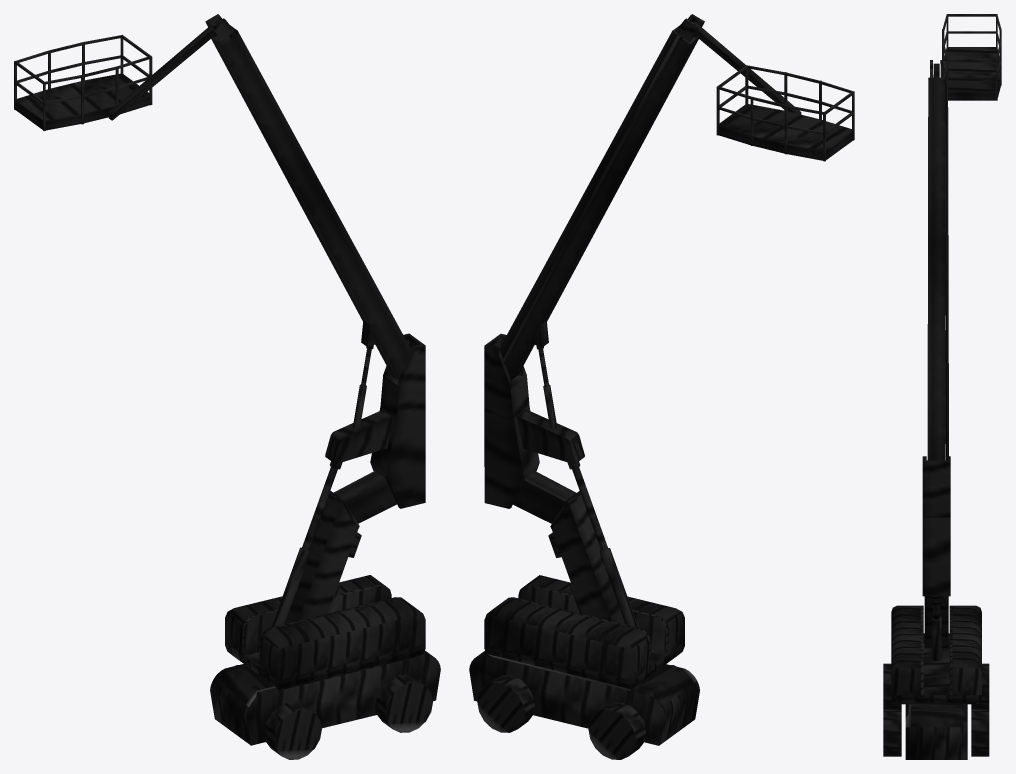
Rendered from Crane-02.obj.
The picture shows the model from 3 angles, left to right: view 1: azimuth 30°, elevation 25°; view 2: azimuth 150°, elevation 25°; view 3: azimuth 270°, elevation 25°; orthographic projection. The views are drawn at different scales.
Visible parts, largest first — view 1: Cube_Cube.001; view 2: Cube_Cube.001; view 3: Cube_Cube.001.
Part boxes in pixels (x1,y1,x2,y2): Cube_Cube.001: (14,14,440,759); Cube_Cube.001: (469,14,854,759); Cube_Cube.001: (883,14,1001,759).
Size of the model in its own units: 10.91 by 20.43 by 3.49.
